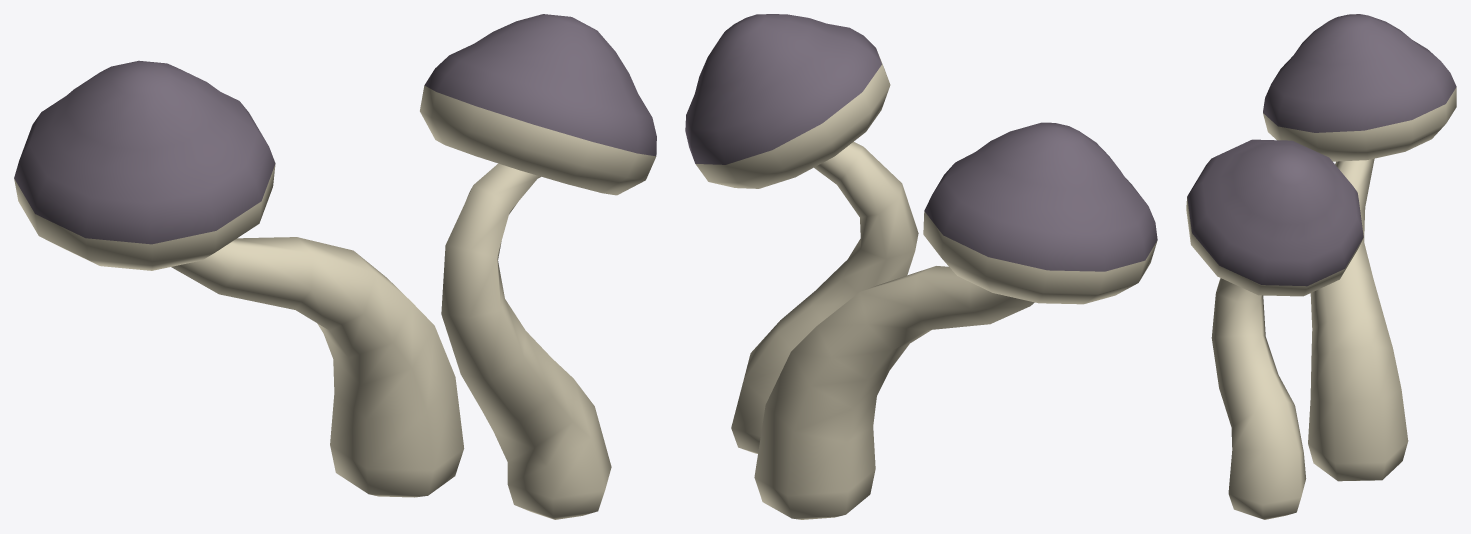
Rendered from P_mushroom_09_LD.fbx.
3 views of the same model, side by side, from view 1: azimuth 30°, elevation 25°; view 2: azimuth 150°, elevation 25°; view 3: azimuth 270°, elevation 25° (orthographic). The views are drawn at different scales.
Visible parts, largest first — view 1: P_mushroom_09; view 2: P_mushroom_09; view 3: P_mushroom_09.
Part boxes in pixels (bbox=[...]): P_mushroom_09: bbox=[14, 14, 656, 519]; P_mushroom_09: bbox=[685, 14, 1157, 519]; P_mushroom_09: bbox=[1186, 14, 1456, 519].
Bounding box in the file's own units: 32.76 × 27.55 × 18.72.
